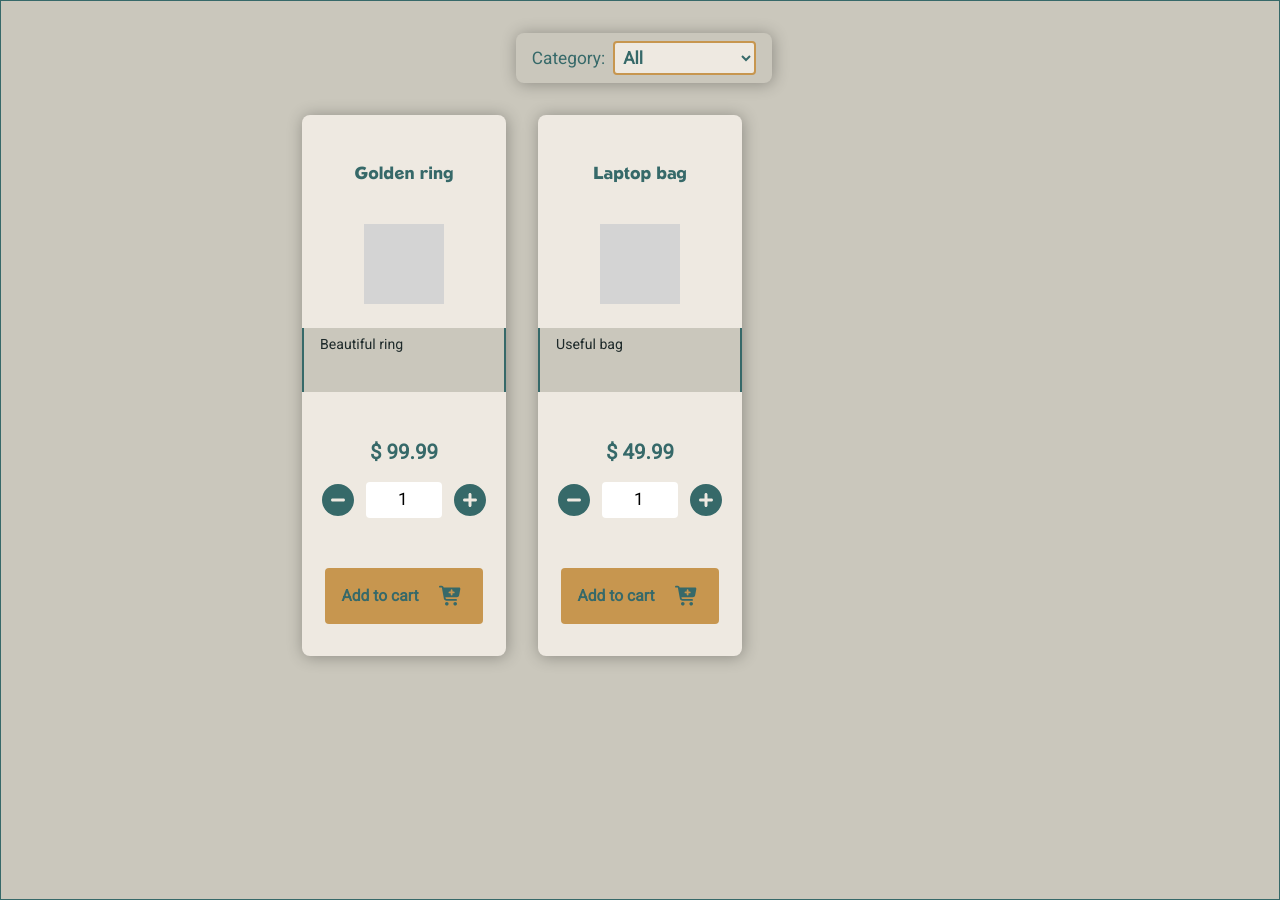
Test: Shop Component › filters products by selected category
Check: the heading "Golden ring" is shown, box [355,162,454,183]
Check: the heading "Laptop bag" is shown, box [593,162,687,183]
Step 1. Select "Jewelery" in the dropdown labelled "Category:" → {"x": 685, "y": 58}, box [613,41,756,75]
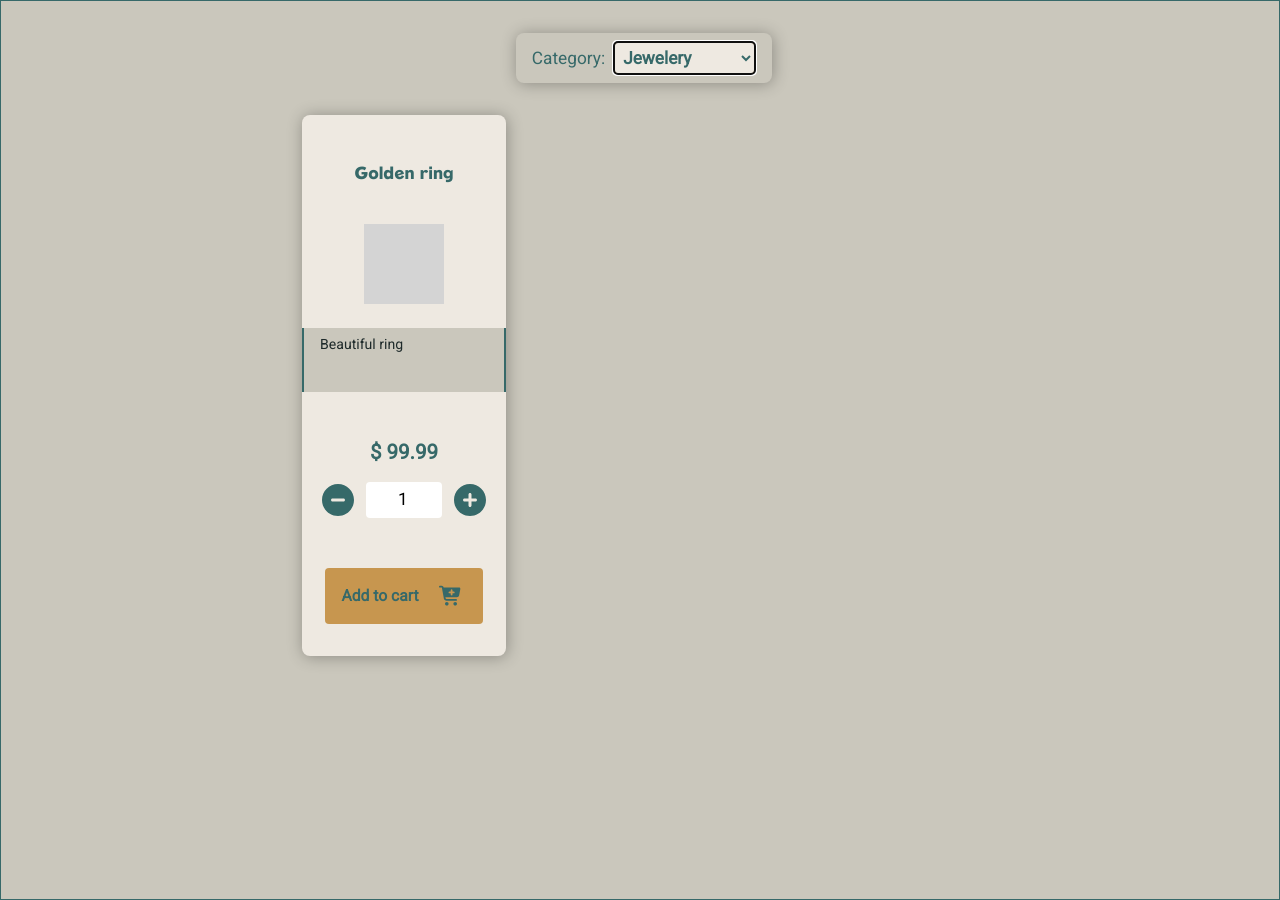
Check: the heading "Golden ring" is shown, box [355,162,454,183]
Check: the heading "Laptop bag" is gone
